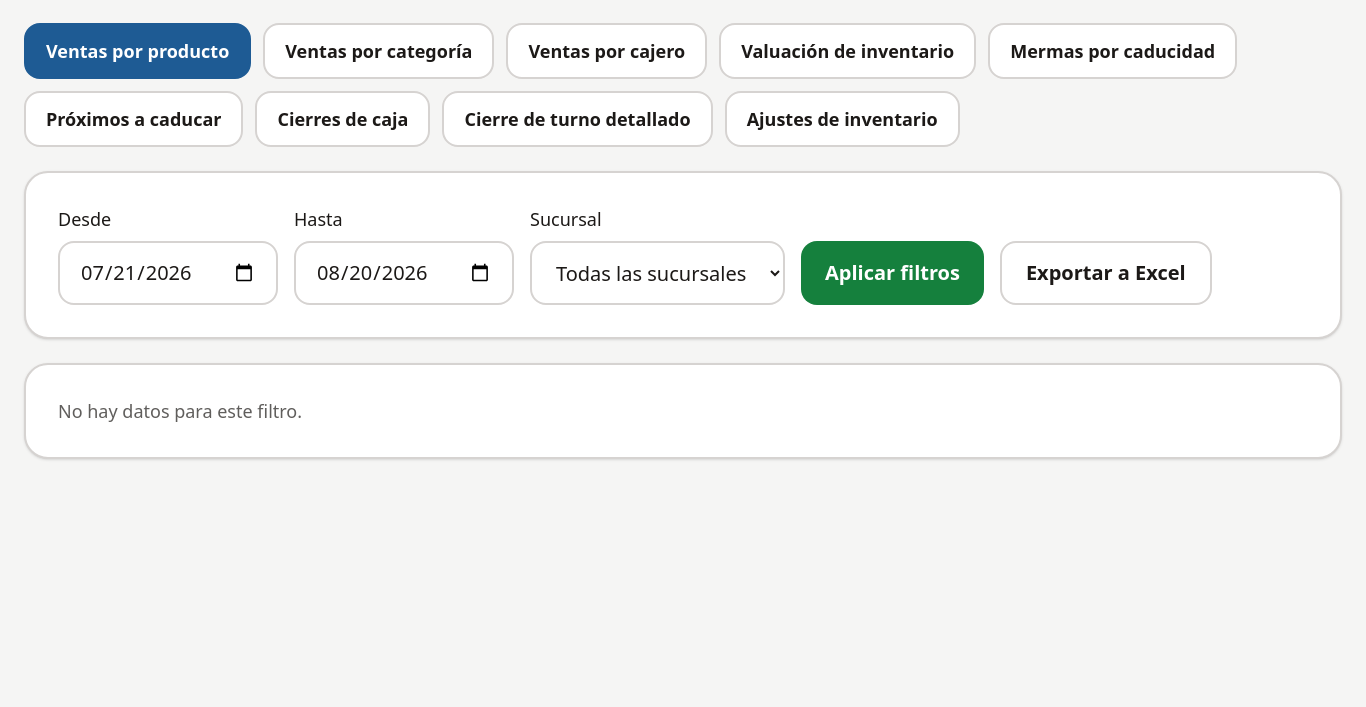
Test case: ReportsScreen — Cierre de turno detallado (drill-down de un turno) › cuando no hay abonos a crédito en el turno, muestra el mensaje explícito en vez de una tabla vacía
Expected: the text "No hay datos para este filtro." is shown, [58,399,302,423]
Click the button "Cierre de turno detallado" at (578, 119), box [442,91,713,147]
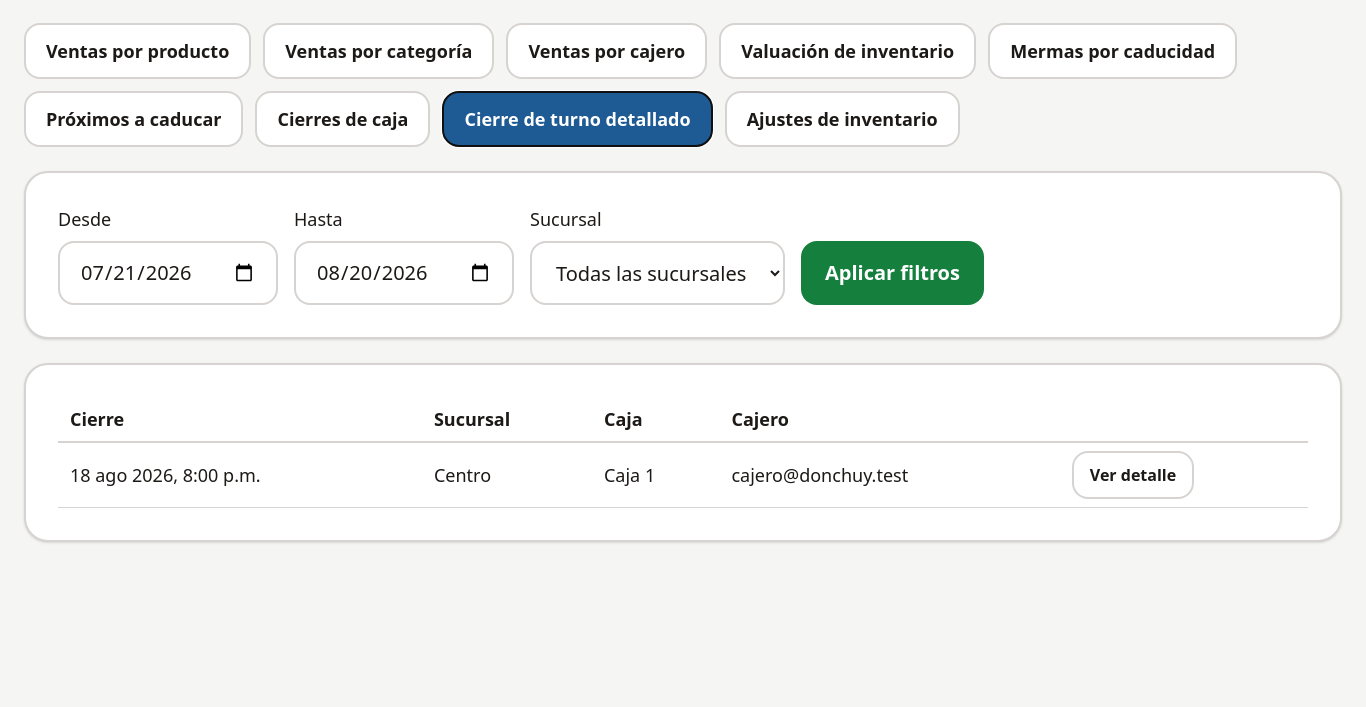
Click the button "Ver detalle" at (1133, 475), box [1072,451,1194,499]
(page scrolled)
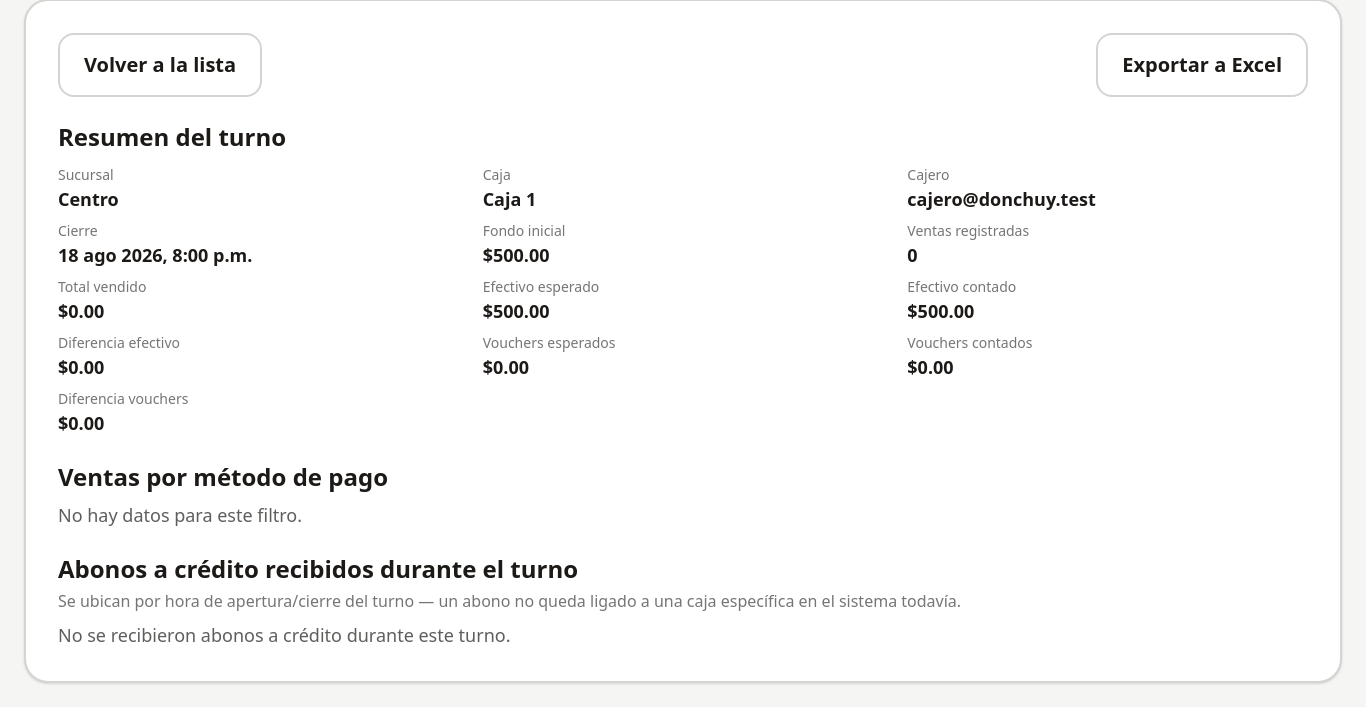
Expected: the text "No se recibieron abonos a crédito durante este turno." is shown, [58,623,510,647]
